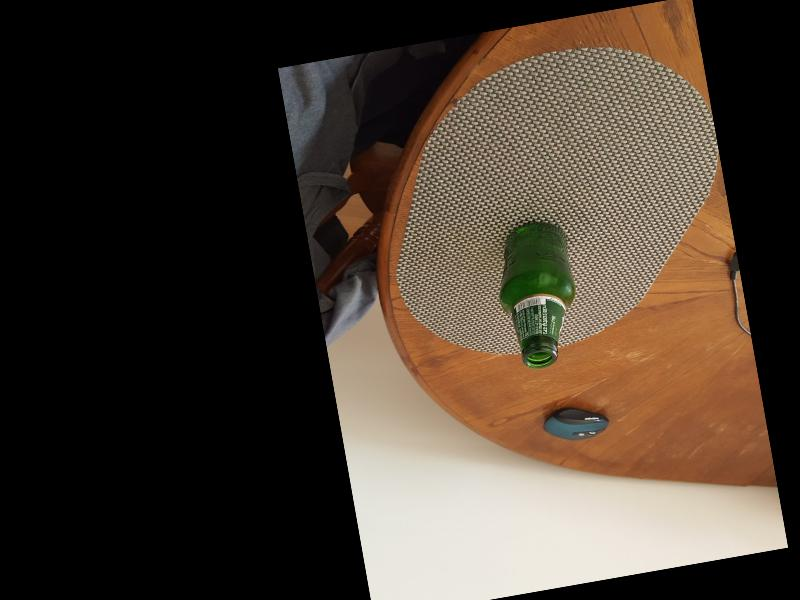Beer: (485, 216, 591, 374)
